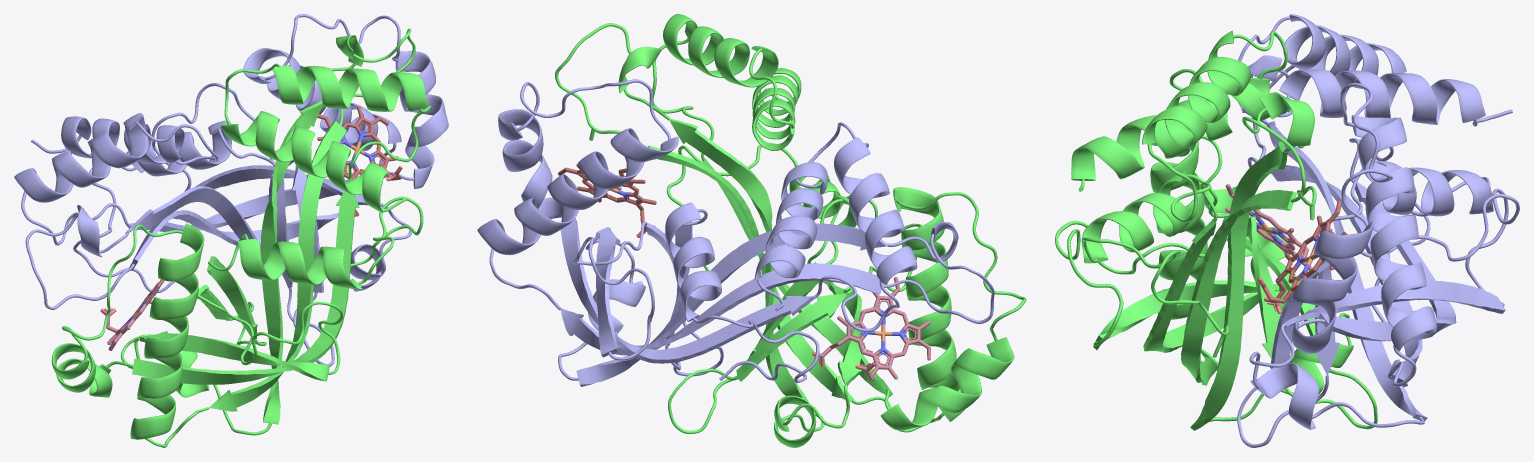
Rendered from PZS_3D_model.gltf.
3 views of the same model, side by side, from view 1: azimuth 30°, elevation 25°; view 2: azimuth 150°, elevation 25°; view 3: azimuth 270°, elevation 25° (orthographic). The views are drawn at different scales.
Visible parts, largest first — view 1: node-geom239, node-geom238, node-geom237, node-geom242, node-geom241, node-geom240; view 2: node-geom242, node-geom238, node-geom241, node-geom240, node-geom239, node-geom237; view 3: node-geom238, node-geom240, node-geom242, node-geom241, node-geom239, node-geom237.
Part boxes in pixels (<box>): node-geom239: <box>55,63,431,397</box>; node-geom238: <box>51,28,415,447</box>; node-geom237: <box>120,196,423,435</box>; node-geom242: <box>14,50,448,245</box>; node-geom241: <box>25,14,445,309</box>; node-geom240: <box>73,83,412,366</box>; node-geom242: <box>498,110,917,363</box>; node-geom238: <box>555,23,1026,432</box>; node-geom241: <box>477,79,994,386</box>; node-geom240: <box>558,202,862,382</box>; node-geom239: <box>652,14,1009,430</box>; node-geom237: <box>666,142,921,447</box>; node-geom238: <box>1150,69,1316,430</box>; node-geom240: <box>1237,160,1519,447</box>; node-geom242: <box>1238,14,1485,353</box>; node-geom241: <box>1238,55,1436,421</box>; node-geom239: <box>1071,30,1466,352</box>; node-geom237: <box>1055,171,1377,429</box>.
Size of the model in its own units: 62.76 by 48.4 by 49.
